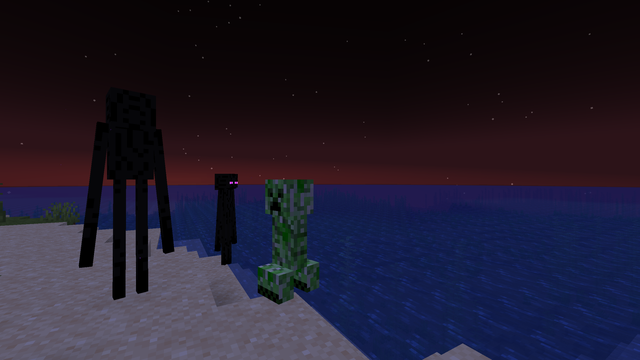creepers: (263, 173, 316, 302)
endermens: (98, 78, 156, 308), (214, 170, 237, 266)
